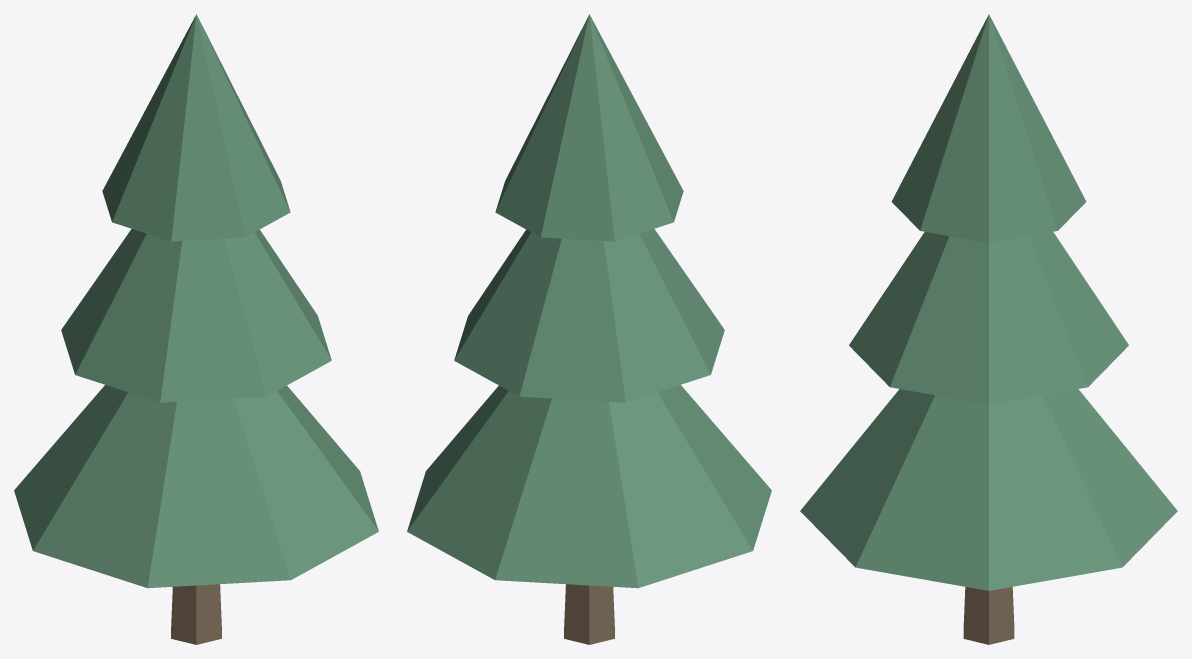
The model's file is tree-pine.gltf.
3 views of the same model, side by side, from view 1: azimuth 30°, elevation 25°; view 2: azimuth 150°, elevation 25°; view 3: azimuth 270°, elevation 25° (orthographic).
Parts seen in each view (by area): view 1: wildlands-prop; view 2: wildlands-prop; view 3: wildlands-prop.
Boxes of the visible parts, x1=… form: wildlands-prop: x1=14, y1=14, x2=378, y2=644; wildlands-prop: x1=407, y1=14, x2=771, y2=644; wildlands-prop: x1=800, y1=14, x2=1177, y2=644.
Size of the model in its own units: 3.1 by 5.6 by 3.1.
